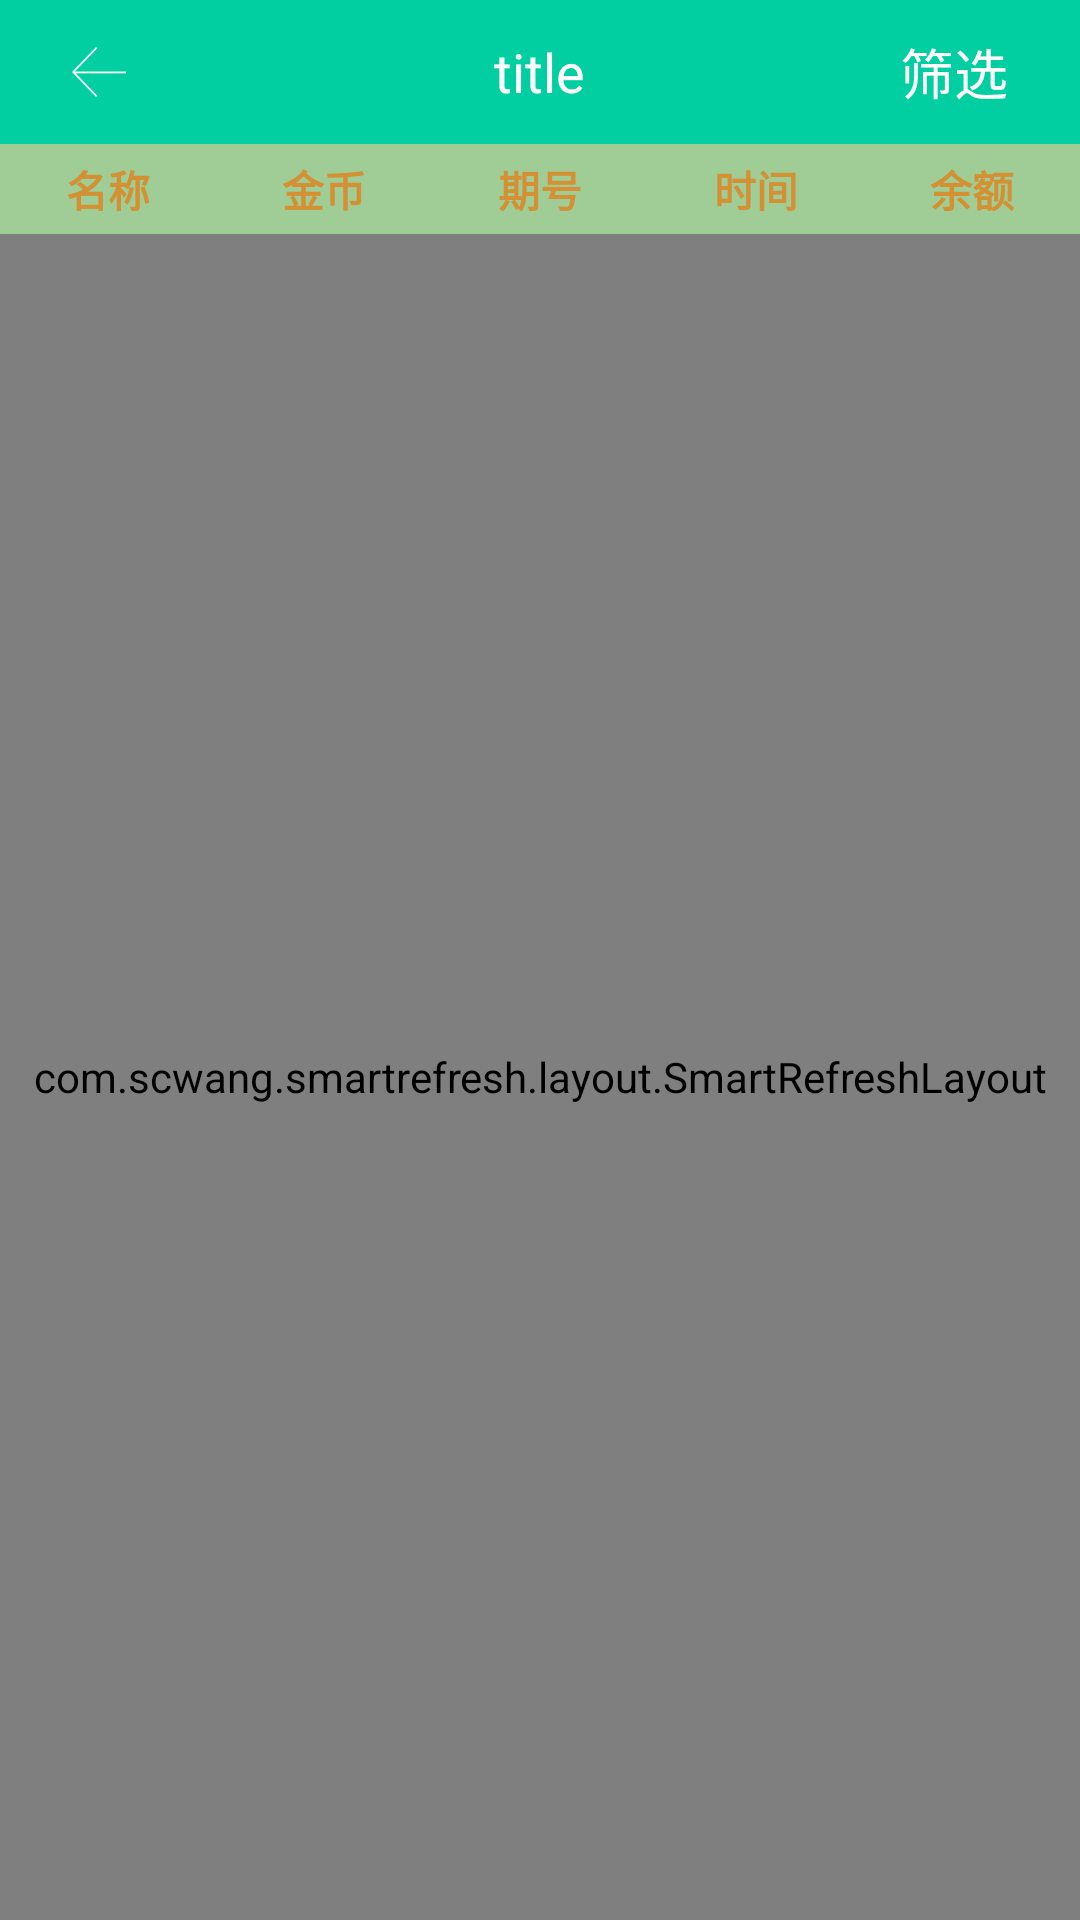

Locate icon controls on the screen. Image size 1080*1920, boxes as (x1, y1, x2, y2).
back: (72, 47, 126, 97)
